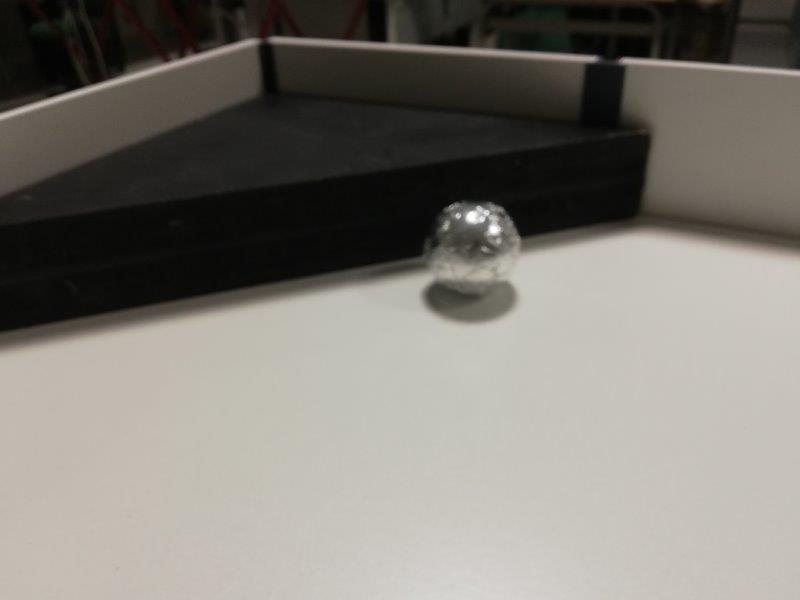bianca: (424, 198, 525, 298)
